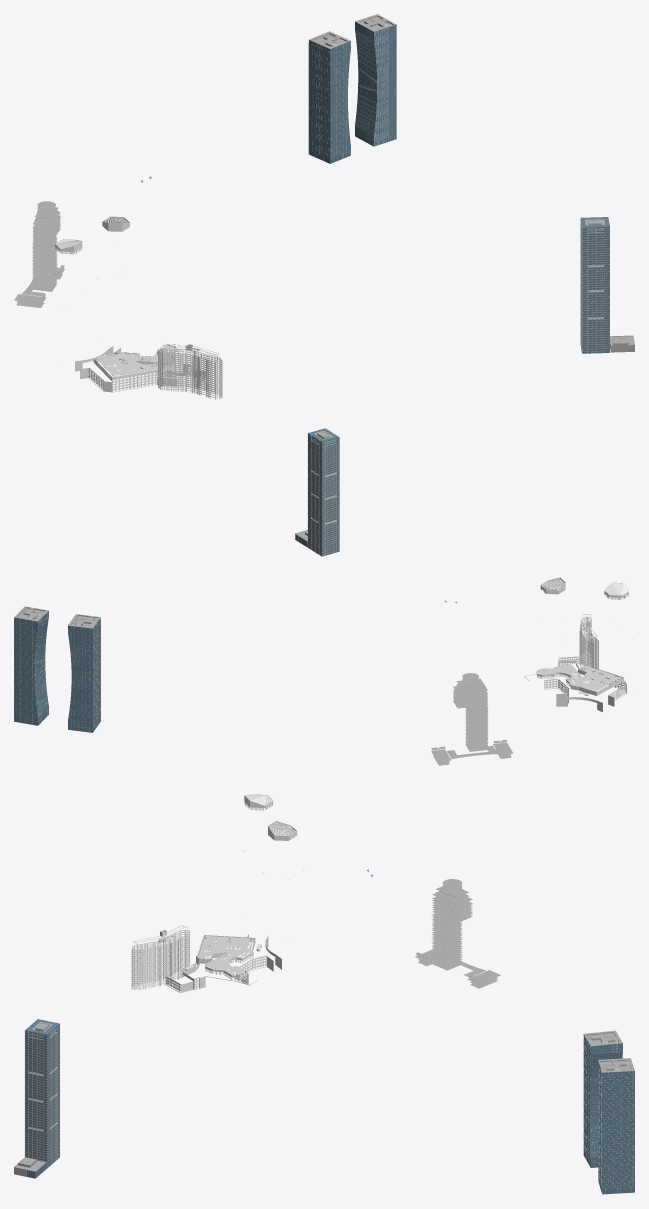
Rendered from lujiazui-14.glb.
3 views of the same model, one above another, from view 1: azimuth 30°, elevation 25°; view 2: azimuth 150°, elevation 25°; view 3: azimuth 270°, elevation 25° (orthographic). The views are drawn at different scales.
Visible parts, largest first — view 1: source_2890_Mat3d66-1303573-2170-3213_part0, source_2883_Mat3d66-1303573-263-9863_part0, source_2902_Mat3d66-1303573-2170-3213_part0, source_2895_Mat3d66-1303573-2153-4388_part0, source_2928_Mat3d66-1303573-2153-4388_part0, source_2892_Mat3d66-1303573-2119-613_part0, source_2885_Mat3d66-1303573-2050-6500_part0, source_2891_Mat3d66-1303573-2048-6564_part0, source_2893_Mat3d66-1303573-2119-613_part0; view 2: source_2890_Mat3d66-1303573-2170-3213_part0, source_2902_Mat3d66-1303573-2170-3213_part0, source_2883_Mat3d66-1303573-263-9863_part0, source_2928_Mat3d66-1303573-2153-4388_part0, source_2895_Mat3d66-1303573-2153-4388_part0, source_2892_Mat3d66-1303573-2119-613_part0, source_2885_Mat3d66-1303573-2050-6500_part0, source_2891_Mat3d66-1303573-2048-6564_part0; view 3: source_2890_Mat3d66-1303573-2170-3213_part0, source_2883_Mat3d66-1303573-263-9863_part0, source_2902_Mat3d66-1303573-2170-3213_part0, source_2928_Mat3d66-1303573-2153-4388_part0, source_2895_Mat3d66-1303573-2153-4388_part0, source_2892_Mat3d66-1303573-2119-613_part0, source_2885_Mat3d66-1303573-2050-6500_part0, source_2891_Mat3d66-1303573-2048-6564_part0.
Boxes of the visible parts, <box> form: source_2890_Mat3d66-1303573-2170-3213_part0: <box>309,22,396,163</box>; source_2883_Mat3d66-1303573-263-9863_part0: <box>55,216,222,399</box>; source_2902_Mat3d66-1303573-2170-3213_part0: <box>580,217,609,353</box>; source_2895_Mat3d66-1303573-2153-4388_part0: <box>580,219,634,353</box>; source_2928_Mat3d66-1303573-2153-4388_part0: <box>14,201,64,307</box>; source_2892_Mat3d66-1303573-2119-613_part0: <box>308,24,394,163</box>; source_2885_Mat3d66-1303573-2050-6500_part0: <box>96,345,175,376</box>; source_2891_Mat3d66-1303573-2048-6564_part0: <box>309,14,396,155</box>; source_2893_Mat3d66-1303573-2119-613_part0: <box>330,26,377,146</box>; source_2890_Mat3d66-1303573-2170-3213_part0: <box>14,611,100,732</box>; source_2902_Mat3d66-1303573-2170-3213_part0: <box>295,428,339,556</box>; source_2883_Mat3d66-1303573-263-9863_part0: <box>524,577,628,711</box>; source_2928_Mat3d66-1303573-2153-4388_part0: <box>431,673,513,765</box>; source_2895_Mat3d66-1303573-2153-4388_part0: <box>295,434,339,555</box>; source_2892_Mat3d66-1303573-2119-613_part0: <box>14,611,100,732</box>; source_2885_Mat3d66-1303573-2050-6500_part0: <box>538,664,621,691</box>; source_2891_Mat3d66-1303573-2048-6564_part0: <box>14,606,100,732</box>; source_2890_Mat3d66-1303573-2170-3213_part0: <box>583,1034,634,1194</box>; source_2883_Mat3d66-1303573-263-9863_part0: <box>131,794,297,993</box>; source_2902_Mat3d66-1303573-2170-3213_part0: <box>25,1019,59,1178</box>; source_2928_Mat3d66-1303573-2153-4388_part0: <box>415,879,500,988</box>; source_2895_Mat3d66-1303573-2153-4388_part0: <box>14,1025,60,1176</box>; source_2892_Mat3d66-1303573-2119-613_part0: <box>583,1035,634,1194</box>; source_2885_Mat3d66-1303573-2050-6500_part0: <box>197,936,253,974</box>; source_2891_Mat3d66-1303573-2048-6564_part0: <box>584,1030,634,1194</box>.
Bounding box in the file's own units: 928 × 241 × 935.
